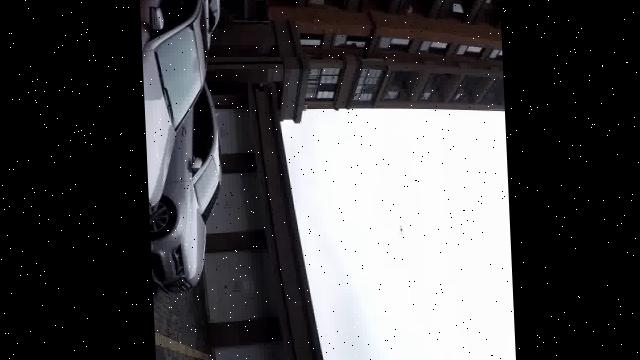drone: (390, 216, 416, 234)
